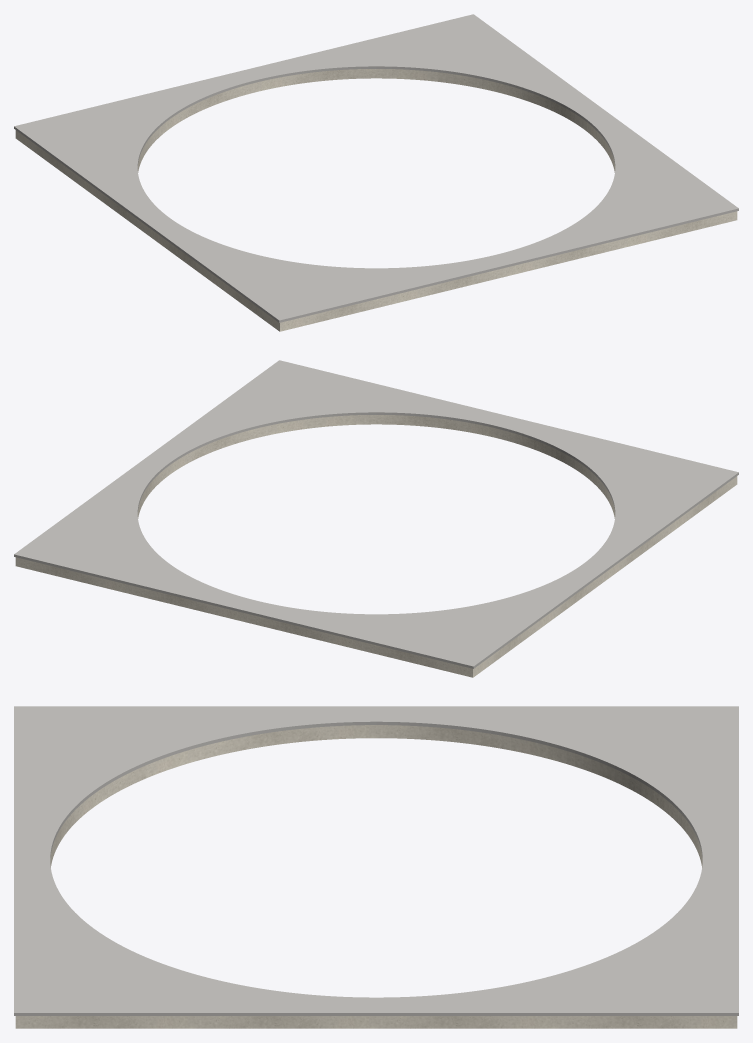
The model's file is dome_ring.glb.
3 views of the same model, one above another, from view 1: azimuth 30°, elevation 25°; view 2: azimuth 150°, elevation 25°; view 3: azimuth 270°, elevation 25° (orthographic). The views are drawn at different scales.
Parts seen in each view (by area): view 1: dome_ring_roof, dome_ring_plaster; view 2: dome_ring_roof, dome_ring_plaster; view 3: dome_ring_roof, dome_ring_plaster.
Part boxes in pixels (x1,y1,x2,y2): dome_ring_roof: (14,14,738,322); dome_ring_plaster: (15,69,737,331); dome_ring_roof: (14,360,738,668); dome_ring_plaster: (15,415,737,677); dome_ring_roof: (14,706,738,1015); dome_ring_plaster: (15,725,737,1028).
Size of the model in its own units: 8 by 0.2 by 8.
2 materials, 1 textured.
